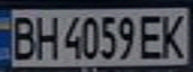0: (78, 12, 100, 61)
4: (60, 12, 84, 61)
5: (96, 12, 121, 61)
9: (115, 11, 139, 61)
B: (6, 12, 39, 61)
E: (136, 11, 166, 61)
H: (30, 11, 60, 61)
K: (157, 10, 190, 60)
